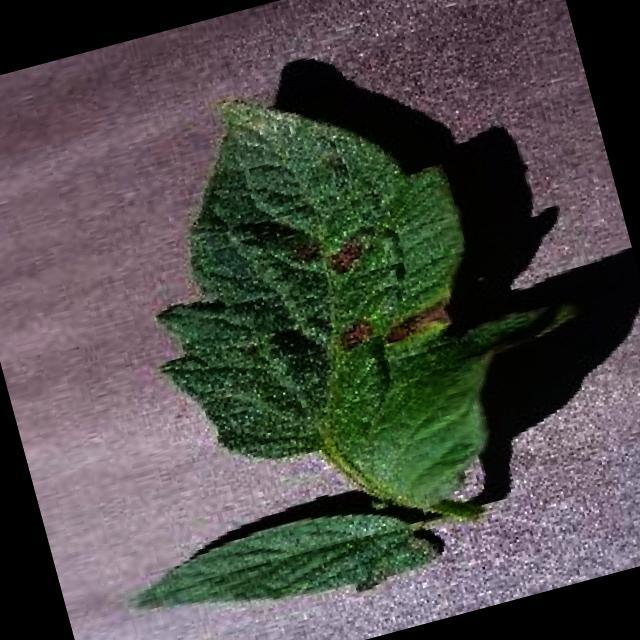Tomato Early blight leaf: (97, 22, 619, 556)
